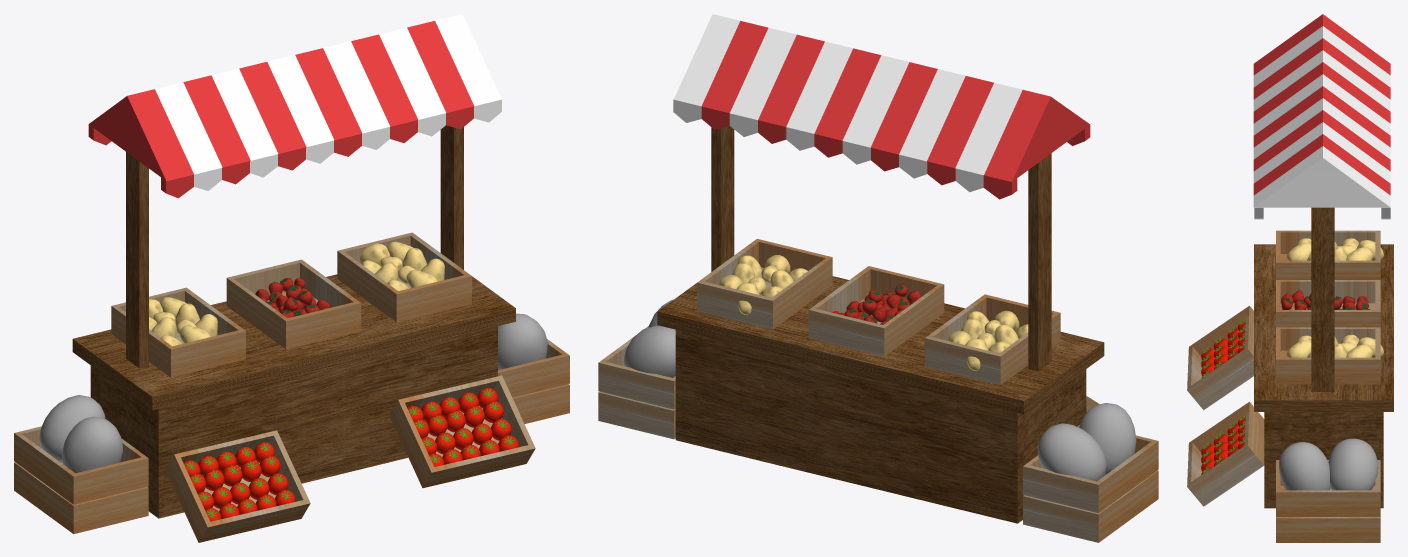
Rendered from tienda 1.fbx.
3 renders of one model, left to right at view 1: azimuth 30°, elevation 25°; view 2: azimuth 150°, elevation 25°; view 3: azimuth 270°, elevation 25°, orthographic. The views are drawn at different scales.
Visible parts, largest first — view 1: techo1, Base, tabla, columna, caja6, caja4, caja3, caja2, caja1, caja5, tomate8, sandia (+6 smaller); view 2: Base, techo1, tabla, columna, caja6, caja4, caja5, caja1, caja, sandia1, sandia, pasted__Patata12; view 3: techo1, tabla, Base, columna, caja3, caja1, caja2, caja4, caja6, caja, caja5, sandia1 (+7 smaller).
Part boxes in pixels (box(x1,y1,x2,y2)): techo1: box(88, 14, 501, 198); Base: box(90, 326, 497, 518); tabla: box(72, 274, 515, 410); columna: box(126, 125, 463, 368); caja6: box(14, 339, 569, 504); caja4: box(226, 259, 361, 349); caja3: box(390, 375, 535, 488); caja2: box(166, 430, 310, 542); caja1: box(337, 232, 471, 322); caja5: box(14, 384, 569, 533); tomate8: box(183, 442, 295, 521); sandia: box(62, 313, 547, 473); Base: box(675, 329, 1086, 523); techo1: box(673, 14, 1090, 199); tabla: box(657, 276, 1104, 414); columna: box(711, 126, 1051, 371); caja6: box(598, 326, 1158, 513); caja4: box(808, 266, 944, 356); caja5: box(598, 391, 1158, 542); caja1: box(697, 239, 832, 329); caja: box(924, 294, 1060, 384); sandia1: box(624, 326, 1106, 481); sandia: box(648, 299, 1136, 475); pasted__Patata12: box(948, 310, 1028, 370); techo1: box(1253, 14, 1390, 219); tabla: box(1254, 244, 1393, 411); Base: box(1264, 412, 1383, 508); columna: box(1311, 207, 1334, 391); caja3: box(1187, 401, 1264, 506); caja1: box(1276, 327, 1380, 384); caja2: box(1187, 305, 1253, 410); caja4: box(1276, 280, 1380, 327); caja6: box(1276, 460, 1380, 516); caja: box(1276, 230, 1380, 279); caja5: box(1276, 517, 1380, 542); sandia1: box(1328, 438, 1378, 490).
Bounding box in the file's own units: 9.47 × 7.28 × 3.89.
